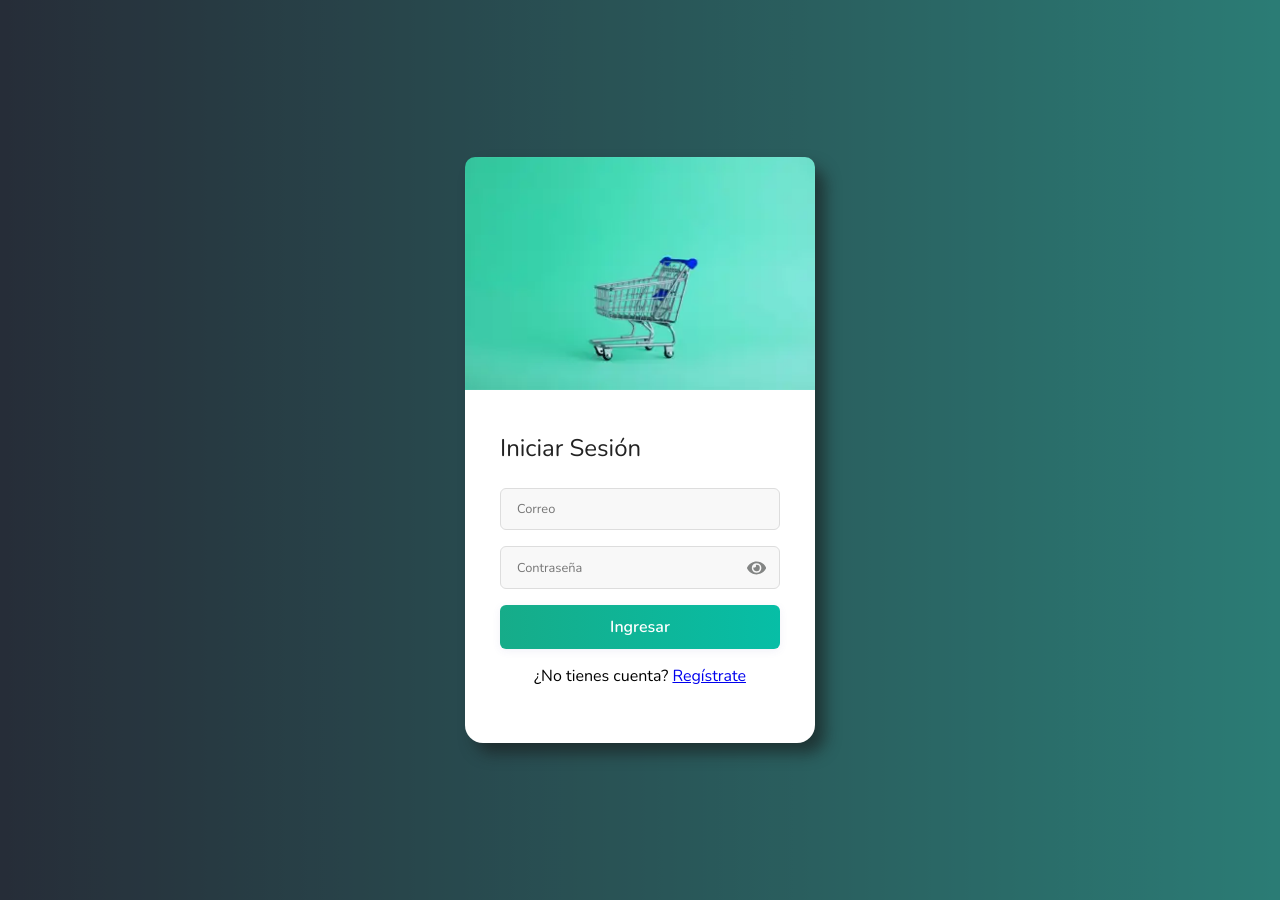
Test: Login Component › debe mostrar un mensaje de error de conexión si la API falla
In the field with placeholder "Correo": (640, 509) [500,488,780,530], type "test@example.com"
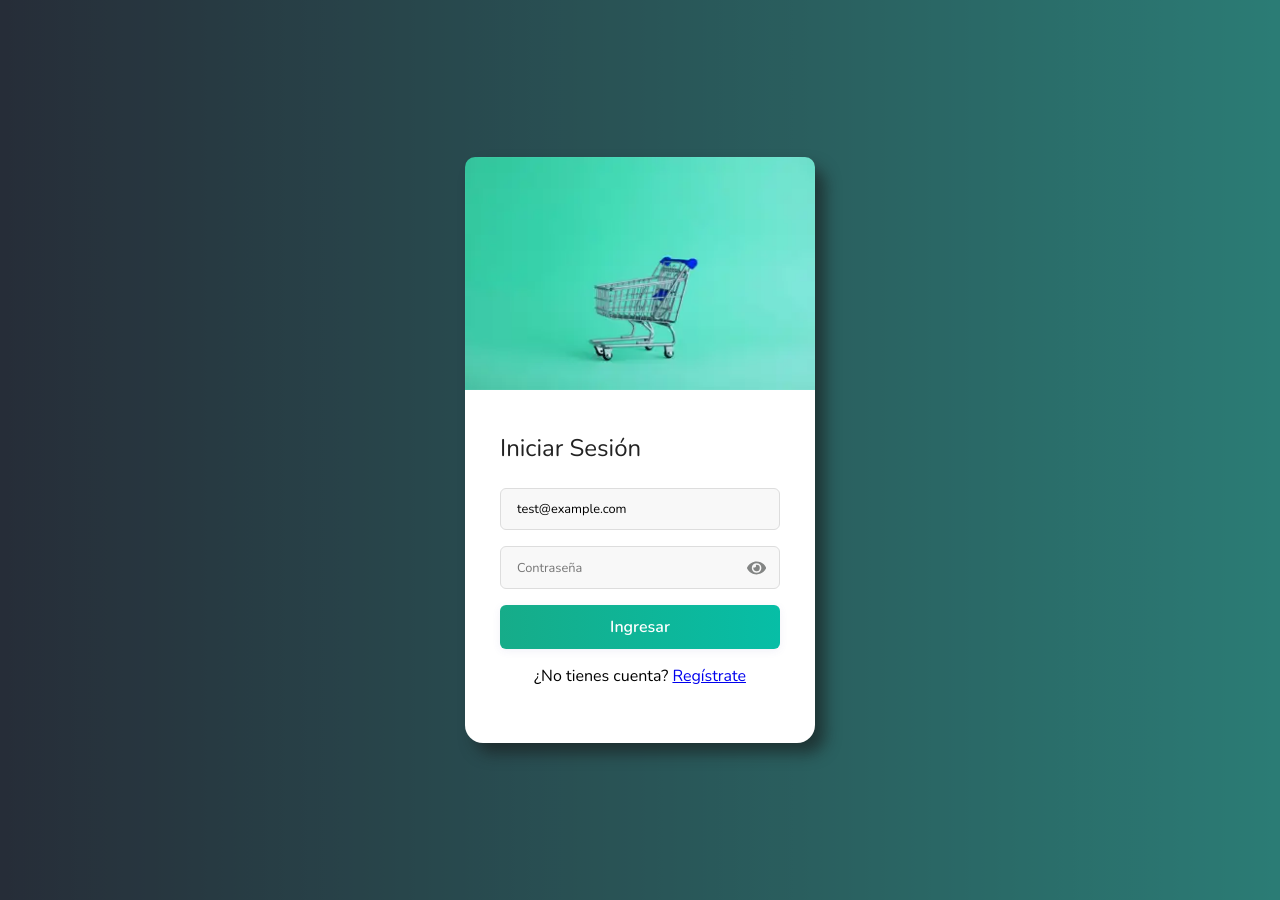
In the password field with placeholder "Contraseña": (640, 568) [500,546,780,589], type "password123"
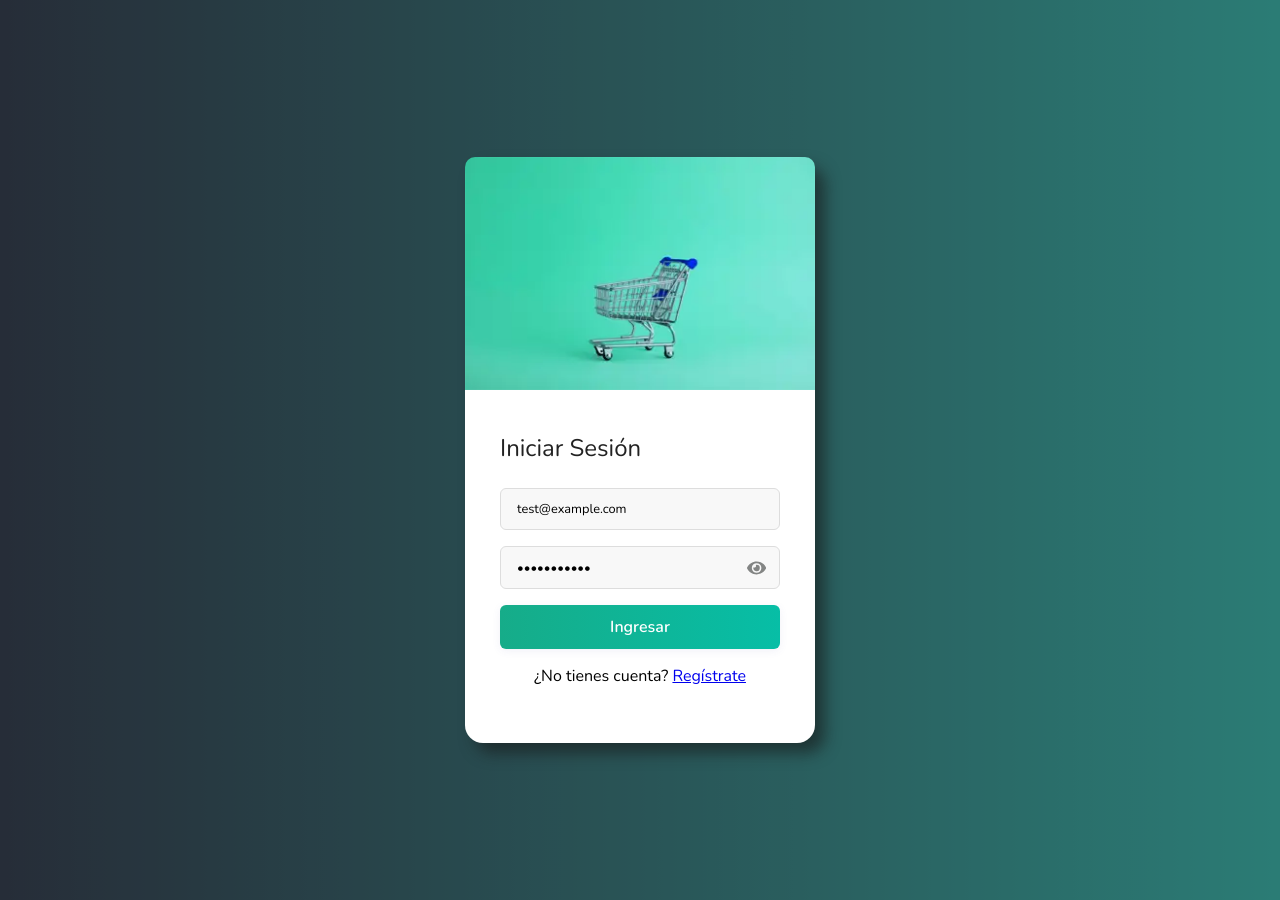
Click the button "Ingresar": (640, 627) [500,605,780,649]
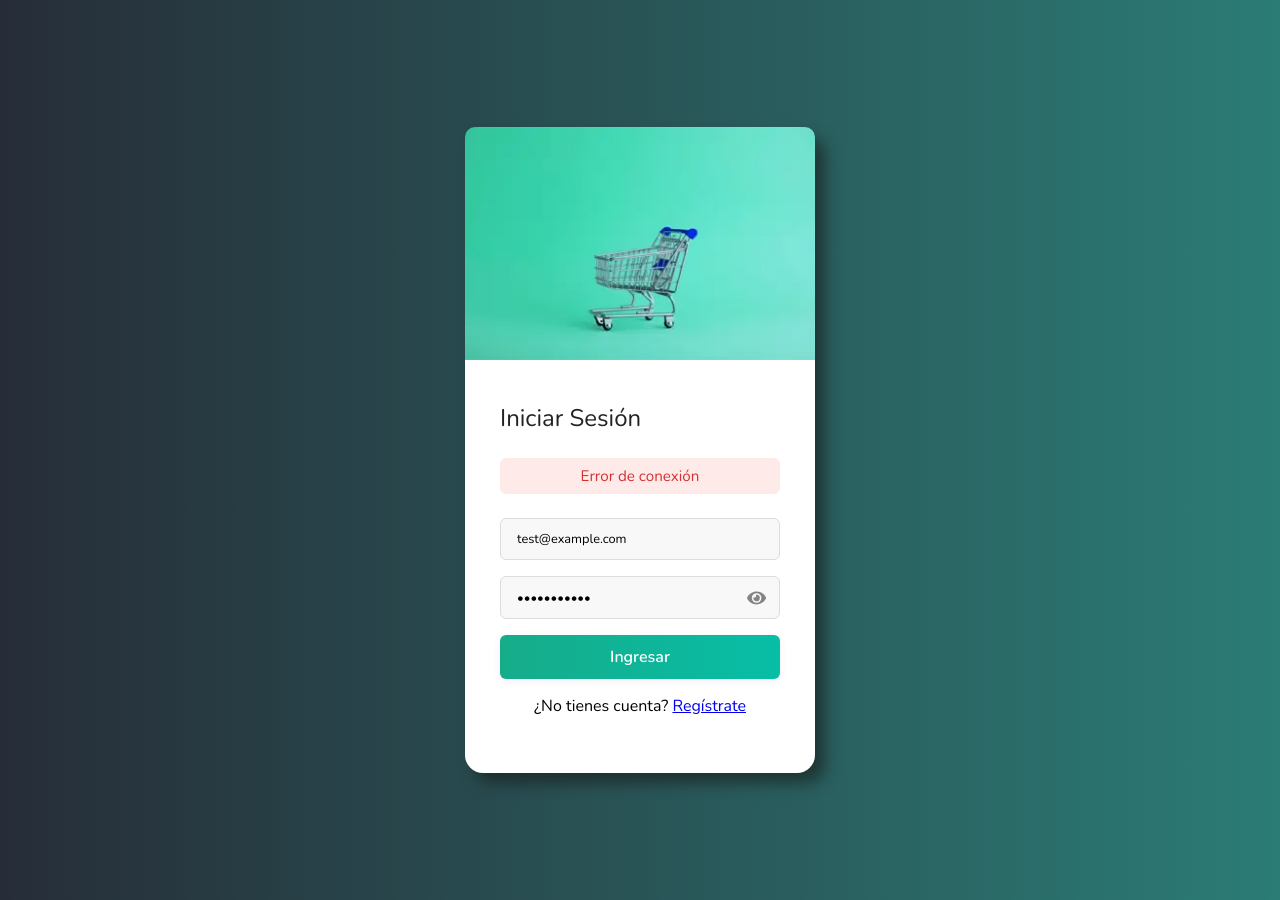
Expected: the text "Error de conexión" is shown, [500,458,780,494]
